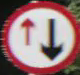Two way: (9, 7, 68, 64)
